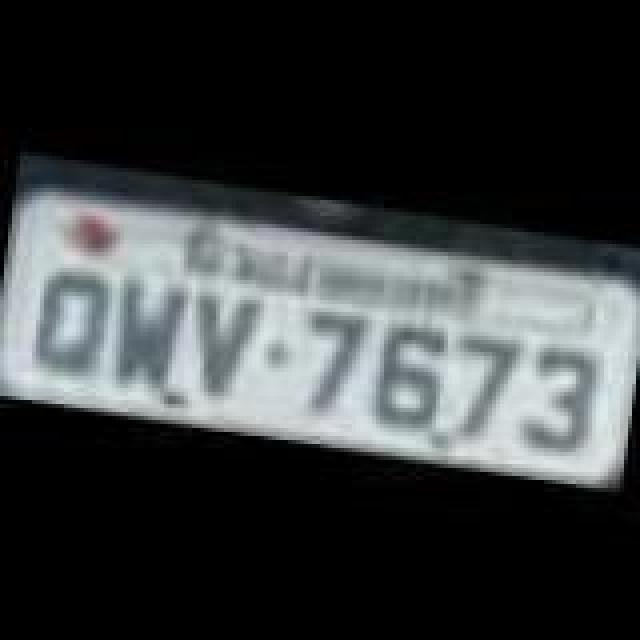3: (520, 342, 600, 454)
6: (366, 316, 450, 428)
7: (294, 302, 378, 418), (440, 324, 520, 440)
Q: (26, 262, 118, 378)
V: (180, 282, 268, 410)
W: (104, 270, 192, 398)
